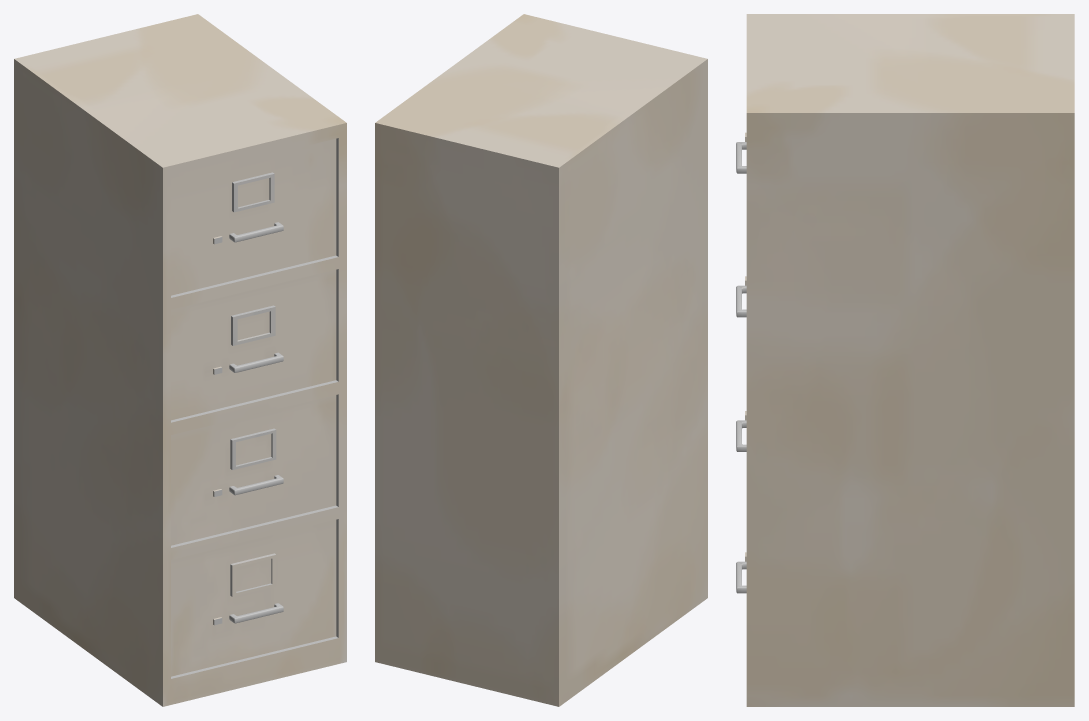
The model's file is FileCabinet.fbx.
3 renders of one model, left to right at view 1: azimuth 30°, elevation 25°; view 2: azimuth 150°, elevation 25°; view 3: azimuth 270°, elevation 25°, orthographic. The views are drawn at different scales.
Visible parts, largest first — view 1: pCube38; view 2: pCube38; view 3: pCube38.
Part boxes in pixels (<box>): pCube38: <box>14,14,346,706</box>; pCube38: <box>375,14,707,706</box>; pCube38: <box>736,14,1074,706</box>.
Size of the model in its own units: 2.5 by 7 by 3.61.
Materials: 1 (1 with a texture image).
